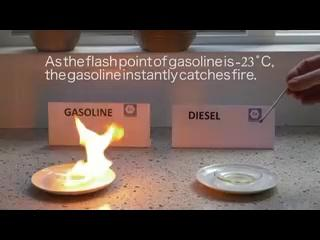Fire: (55, 114, 105, 187)
